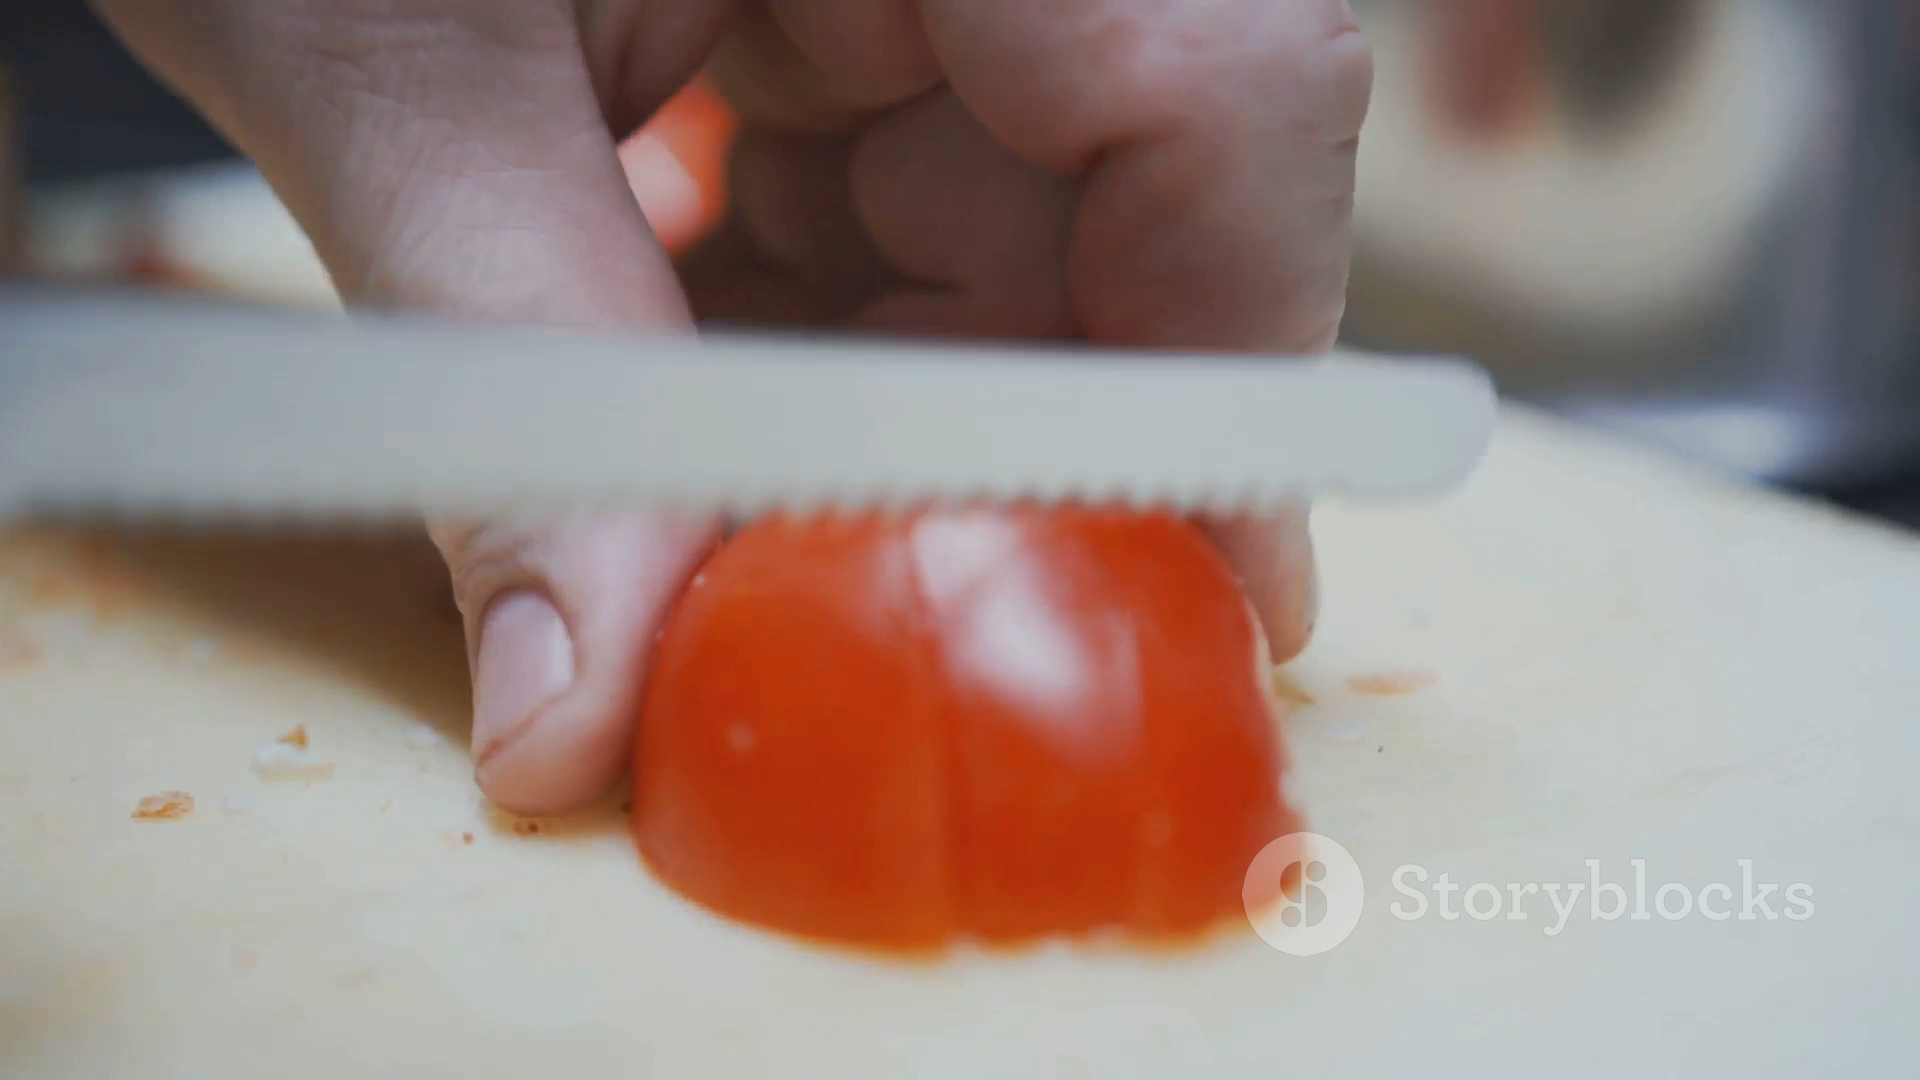cortante: (0, 278, 1506, 524)
